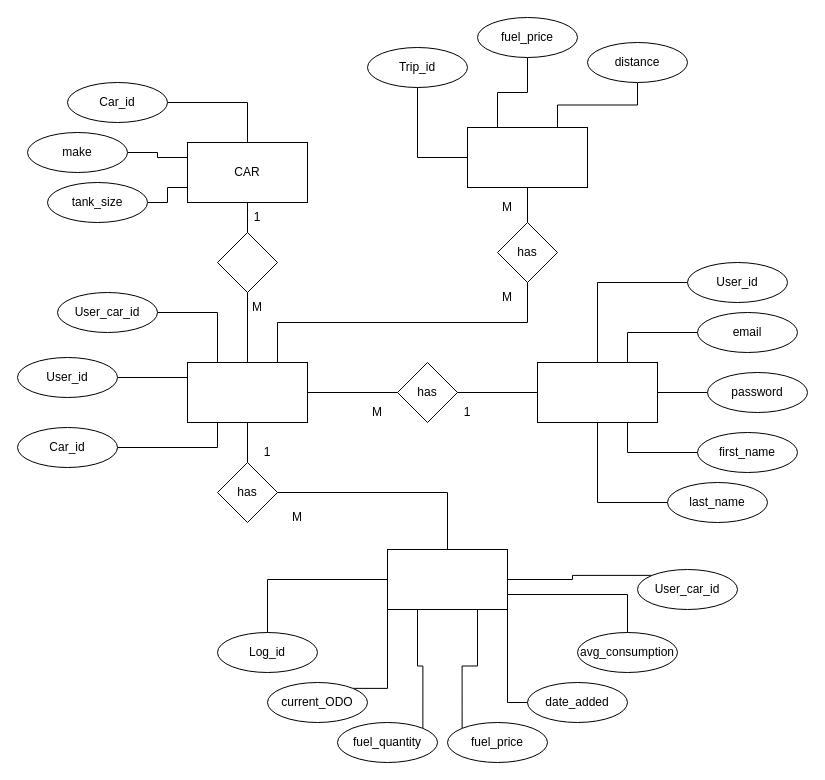
This 825x780 diagram has some shape labels left out. Each missing label, with the box of its shape:
is: (216, 232, 278, 292)
LOG: (386, 548, 508, 610)
TRIP: (466, 126, 588, 188)
USER: (536, 362, 658, 422)
USER CAR: (186, 362, 308, 422)
